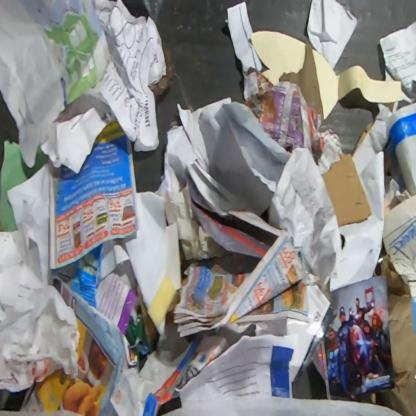cardboard: (379, 253, 415, 415), (320, 153, 372, 228)
